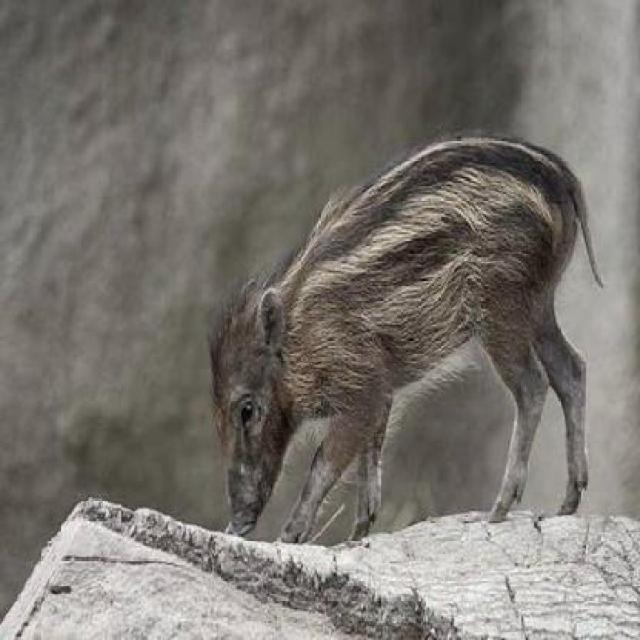Boar: (165, 114, 610, 568)
